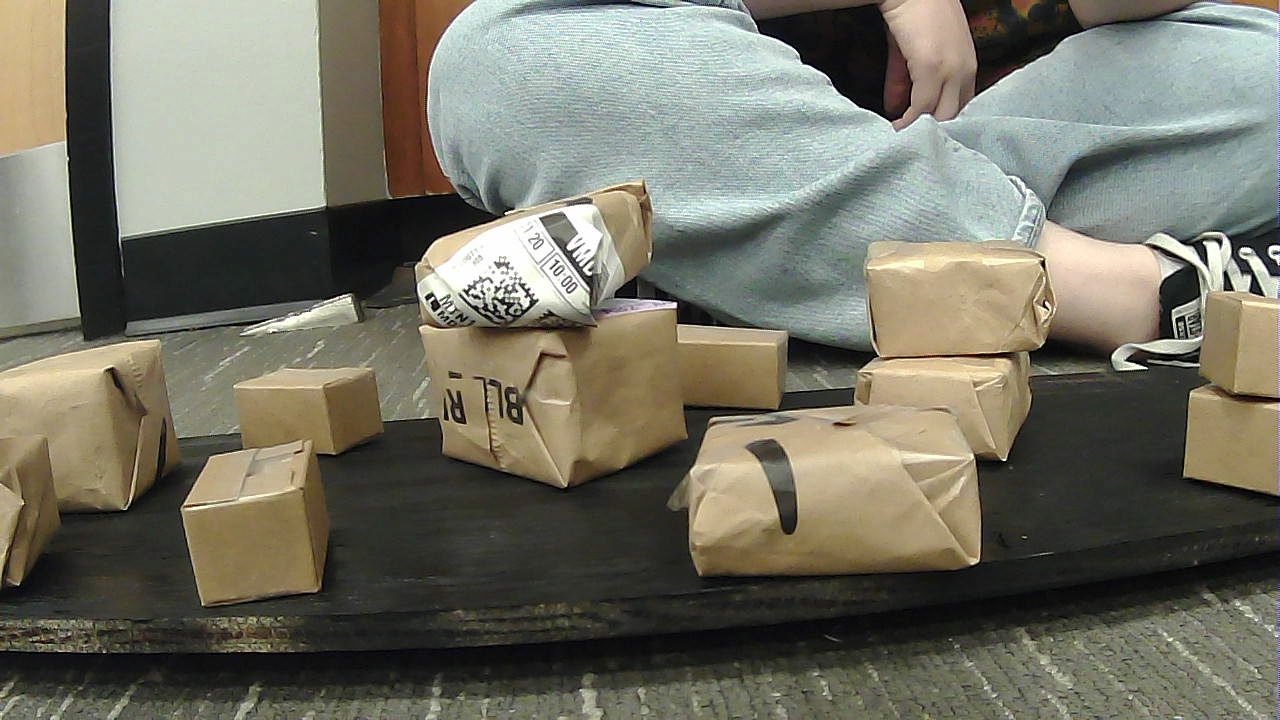package: (687, 416, 1003, 571), (416, 304, 681, 475), (0, 317, 197, 501), (395, 196, 667, 318), (174, 440, 356, 611), (852, 238, 1076, 355), (854, 347, 1071, 466), (227, 342, 394, 453), (651, 303, 792, 417), (15, 429, 90, 582), (1183, 386, 1277, 499), (1192, 279, 1276, 402)
stacked: (418, 205, 699, 482), (832, 235, 1086, 468), (1186, 279, 1274, 498)
